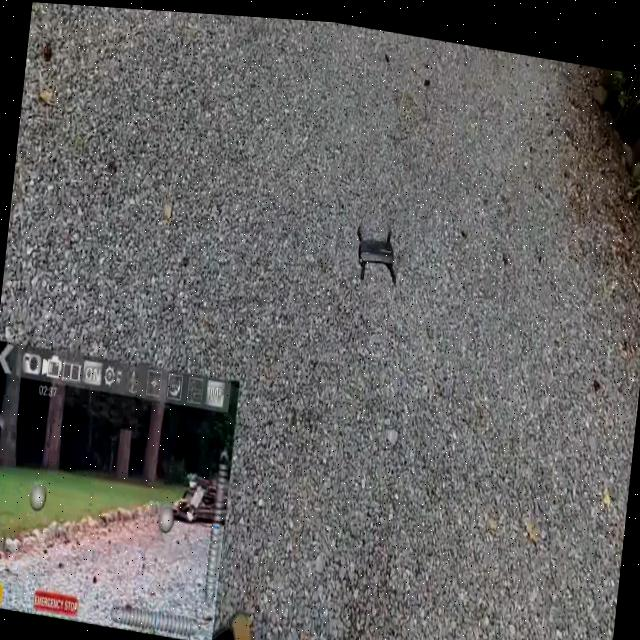drone: (0, 565, 609, 640)
